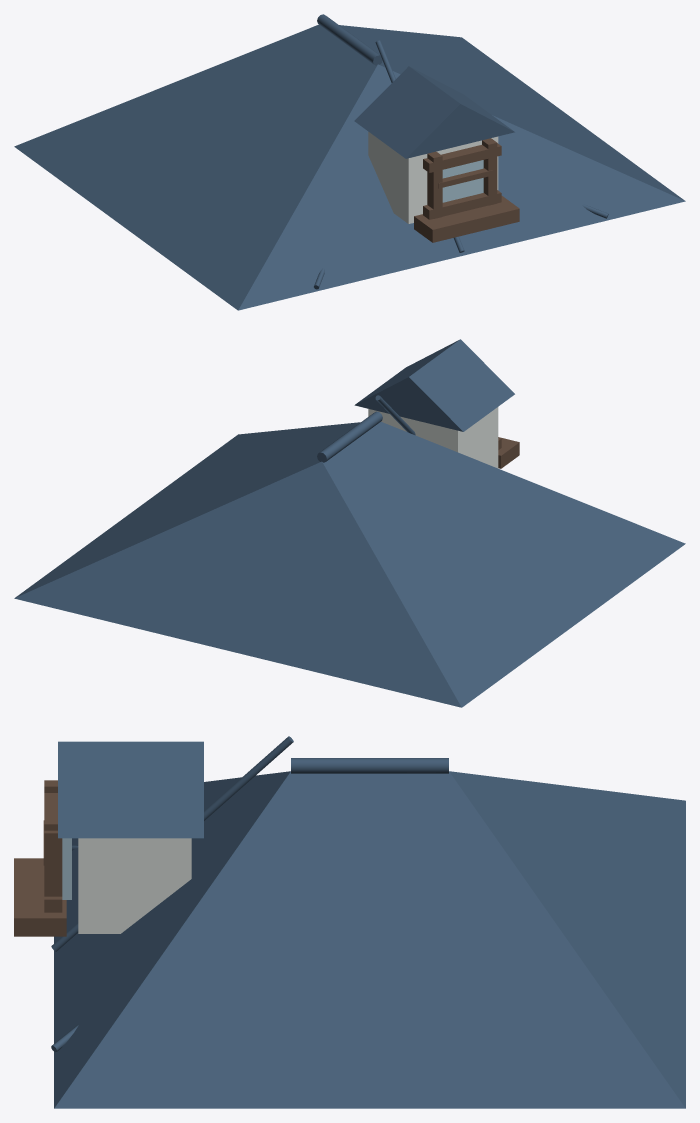
File: roof_traditional_banks_1.glb
3 renders of one model, top to bottom at view 1: azimuth 30°, elevation 25°; view 2: azimuth 150°, elevation 25°; view 3: azimuth 270°, elevation 25°, orthographic. The views are drawn at different scales.
Parts seen in each view (by area): view 1: roof_traditional_banks_1 slate, roof_traditional_banks_1 wood, roof_traditional_banks_1 plaster, roof_traditional_banks_1 glass; view 2: roof_traditional_banks_1 slate, roof_traditional_banks_1 plaster; view 3: roof_traditional_banks_1 slate, roof_traditional_banks_1 plaster, roof_traditional_banks_1 wood, roof_traditional_banks_1 glass.
Boxes of the visible parts, <box> form: roof_traditional_banks_1 slate: <box>14,14,685,310</box>; roof_traditional_banks_1 wood: <box>414,138,519,242</box>; roof_traditional_banks_1 plaster: <box>368,132,498,223</box>; roof_traditional_banks_1 glass: <box>442,160,483,202</box>; roof_traditional_banks_1 slate: <box>14,339,685,707</box>; roof_traditional_banks_1 plaster: <box>368,407,498,468</box>; roof_traditional_banks_1 slate: <box>51,736,685,1108</box>; roof_traditional_banks_1 plaster: <box>78,838,191,933</box>; roof_traditional_banks_1 wood: <box>14,780,66,936</box>; roof_traditional_banks_1 glass: <box>62,838,71,899</box>.
Size of the model in its own units: 0.9 by 0.2971 by 0.8295.
